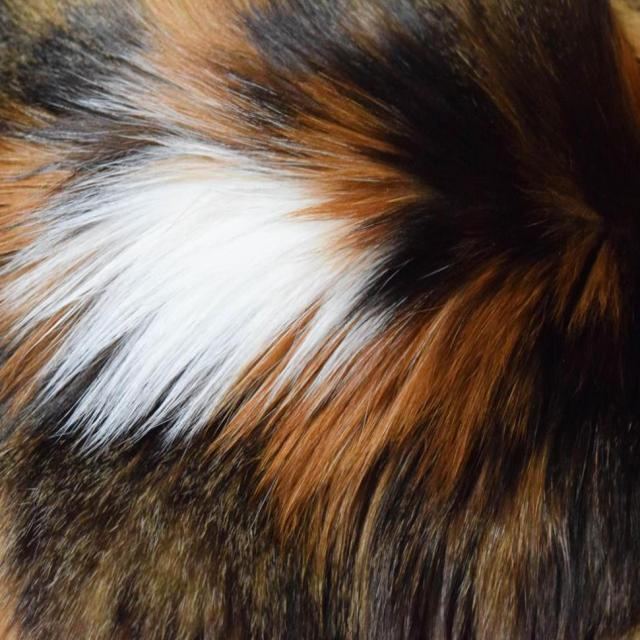da khoe manh: (98, 133, 588, 538)
